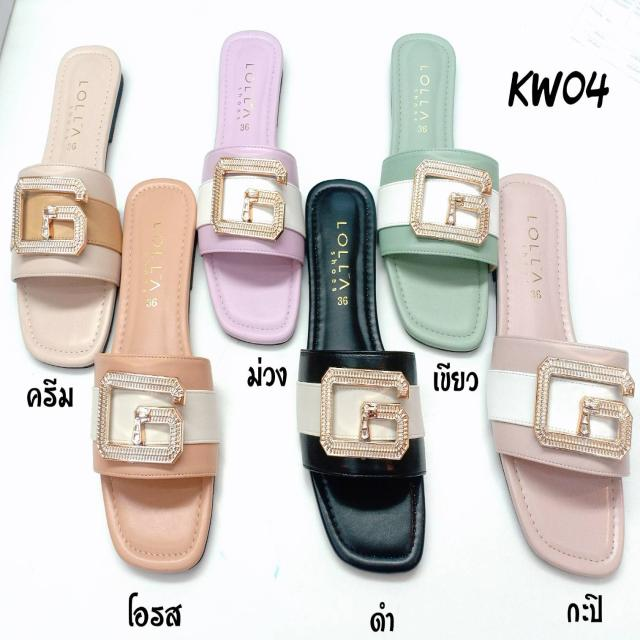black: (301, 180, 425, 572)
cream: (28, 46, 117, 361)
green: (377, 34, 493, 357)
kapi: (490, 177, 630, 577)
orot: (100, 180, 218, 569)
purple: (196, 31, 304, 350)
